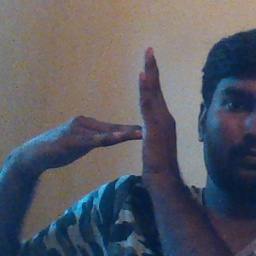Z: (76, 44, 190, 189)
